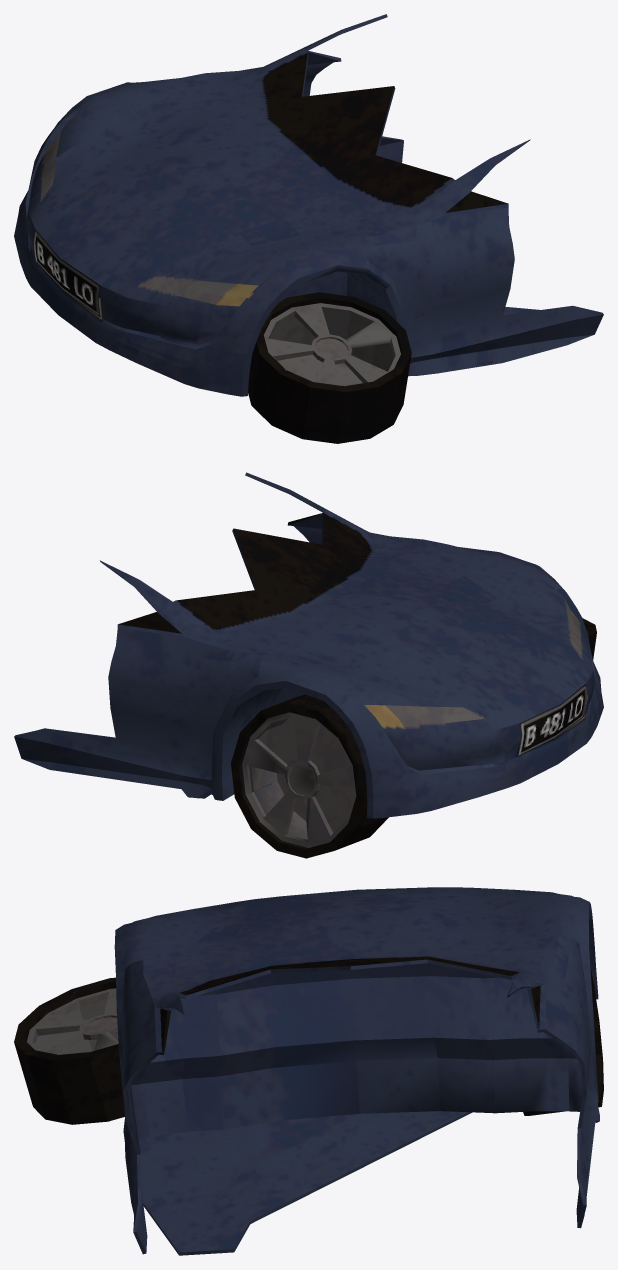
Rendered from P_CAR_WRECKED SEDAN1.fbx.
3 renders of one model, top to bottom at view 1: azimuth 30°, elevation 25°; view 2: azimuth 150°, elevation 25°; view 3: azimuth 270°, elevation 25°, orthographic. The views are drawn at different scales.
Parts seen in each view (by area): view 1: Car_Wrecked_Sedan_1; view 2: Car_Wrecked_Sedan_1; view 3: Car_Wrecked_Sedan_1.
Boxes of the visible parts, x1,y1,x2,y2 form: Car_Wrecked_Sedan_1: [14, 14, 603, 443]; Car_Wrecked_Sedan_1: [14, 472, 603, 858]; Car_Wrecked_Sedan_1: [14, 887, 603, 1255].
Size of the model in its own units: 249 by 117 by 256.
